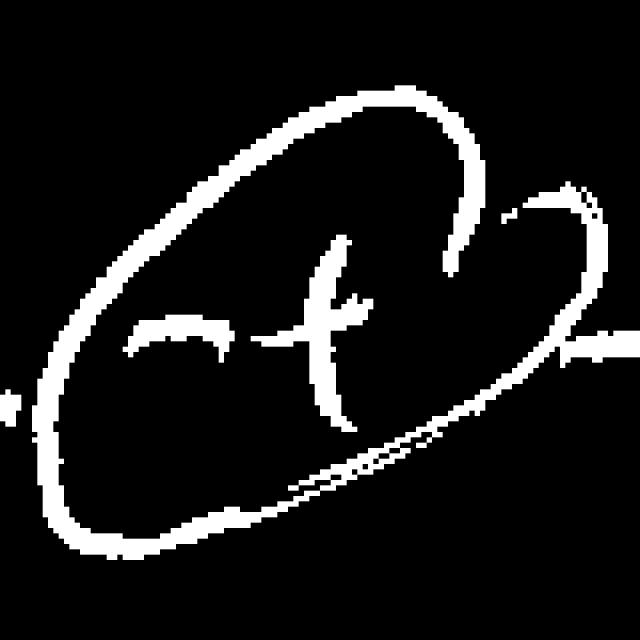voltage_source: (35, 73, 607, 579)
